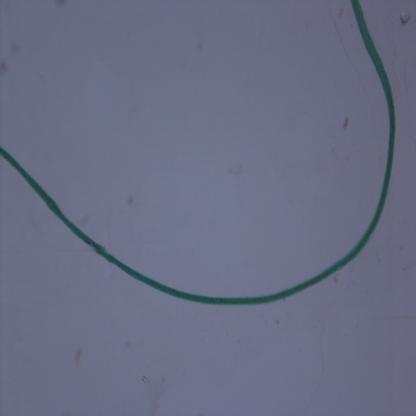Microfibre: (0, 1, 403, 309)
